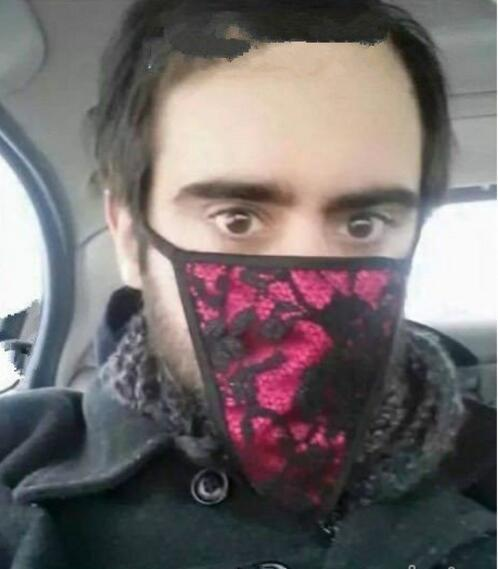face_mask: (149, 88, 418, 490)
